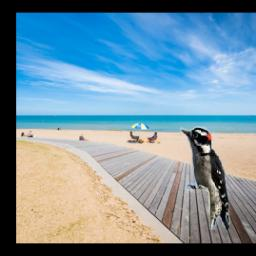Woodpecker: (181, 127, 231, 231)
